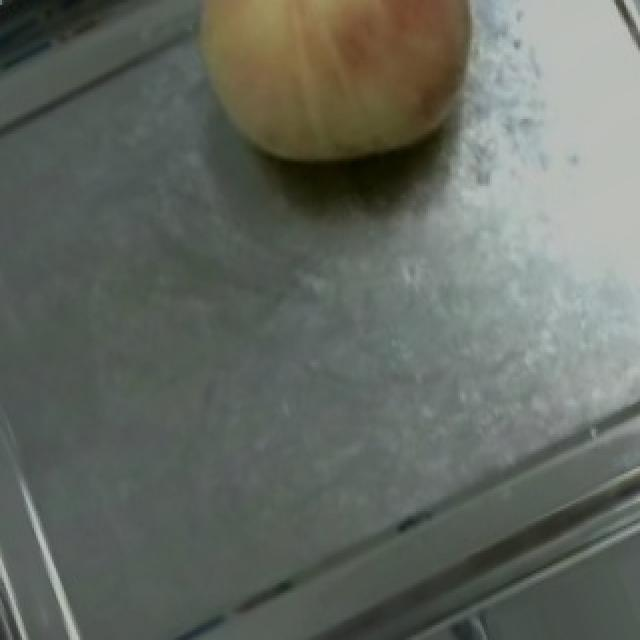Fruit: (156, 0, 494, 211)
